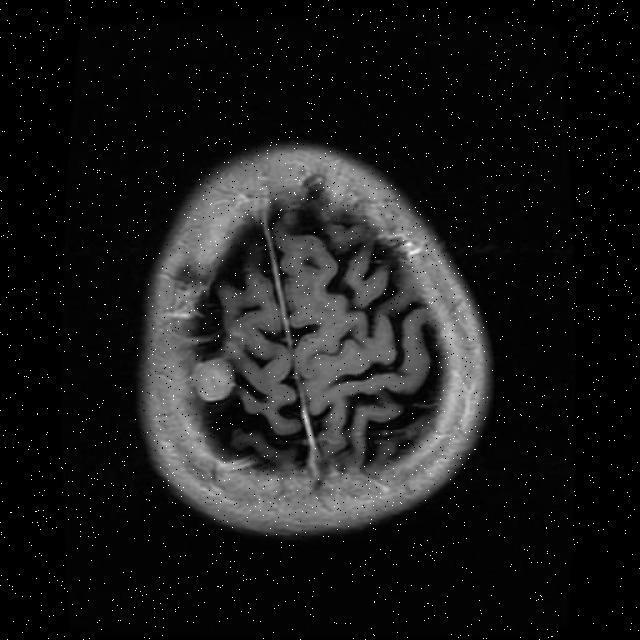Meningioma: (193, 358, 234, 401)
